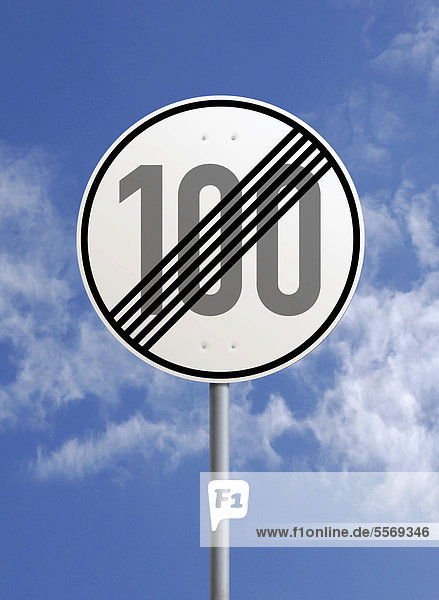aufgehoben: (76, 93, 367, 384)
